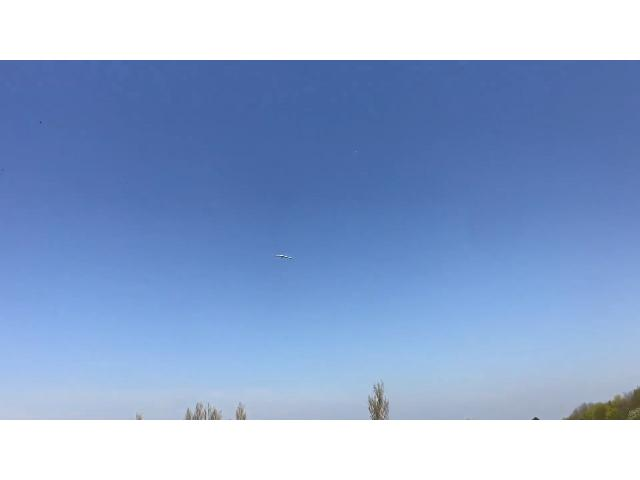Anti-Drone: (266, 245, 306, 266)
